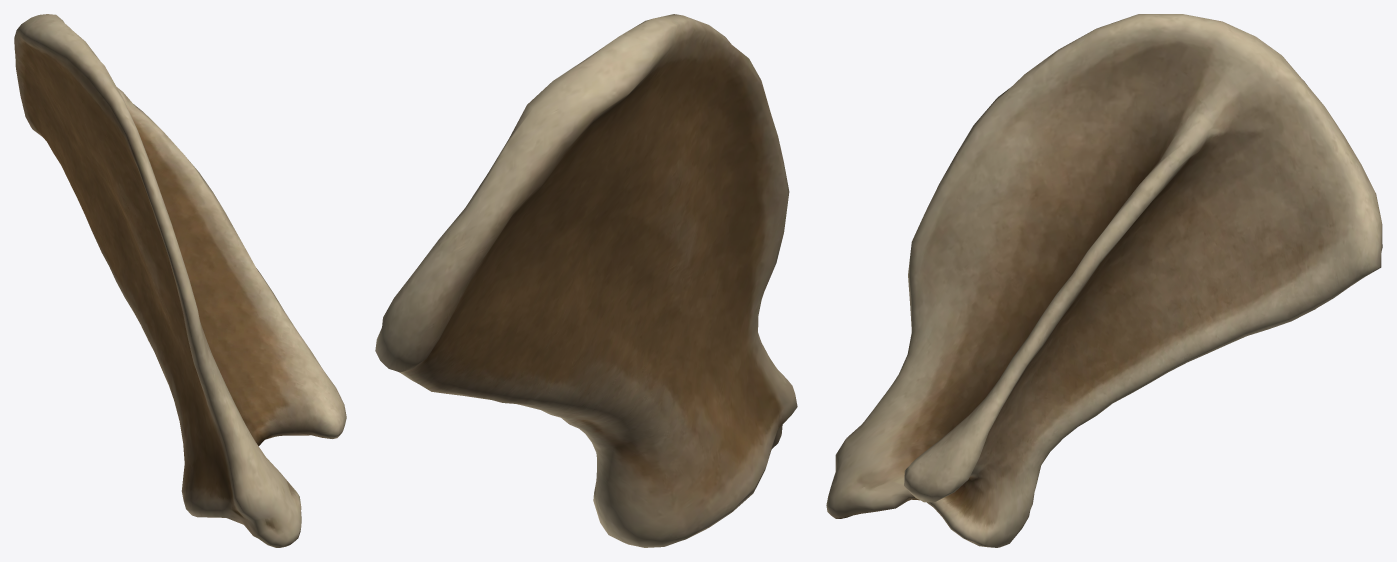
File: Scapula.glb
3 renders of one model, left to right at view 1: azimuth 30°, elevation 25°; view 2: azimuth 150°, elevation 25°; view 3: azimuth 270°, elevation 25°, orthographic. The views are drawn at different scales.
Parts seen in each view (by area): view 1: Scapula_Left1:Group16601; view 2: Scapula_Left1:Group16601; view 3: Scapula_Left1:Group16601.
Part boxes in pixels (x1,y1,x2,y2): Scapula_Left1:Group16601: [14, 14, 346, 547]; Scapula_Left1:Group16601: [375, 14, 797, 547]; Scapula_Left1:Group16601: [826, 14, 1382, 547].
Size of the model in its own units: 34.33 by 73.58 by 76.65.
1 material, 1 textured.
